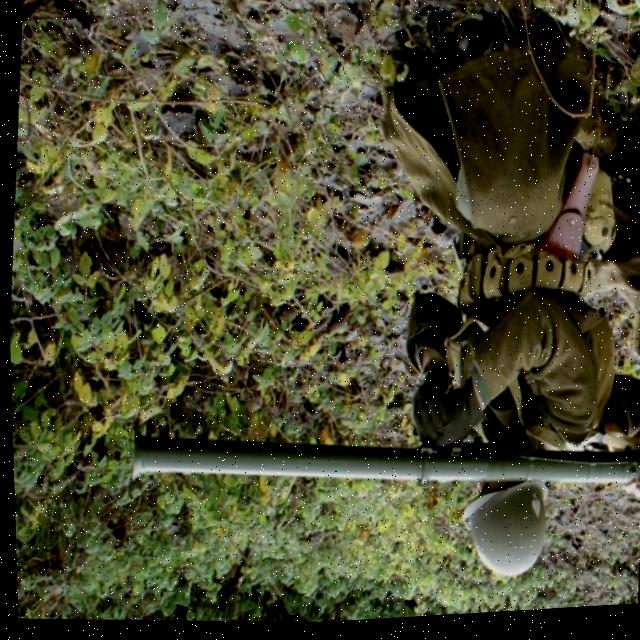rocket: (70, 382, 640, 536)
